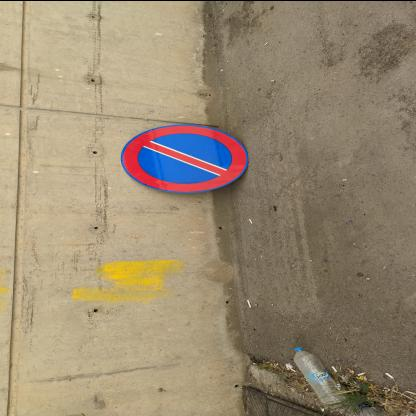No Waiting: (121, 124, 251, 193)
